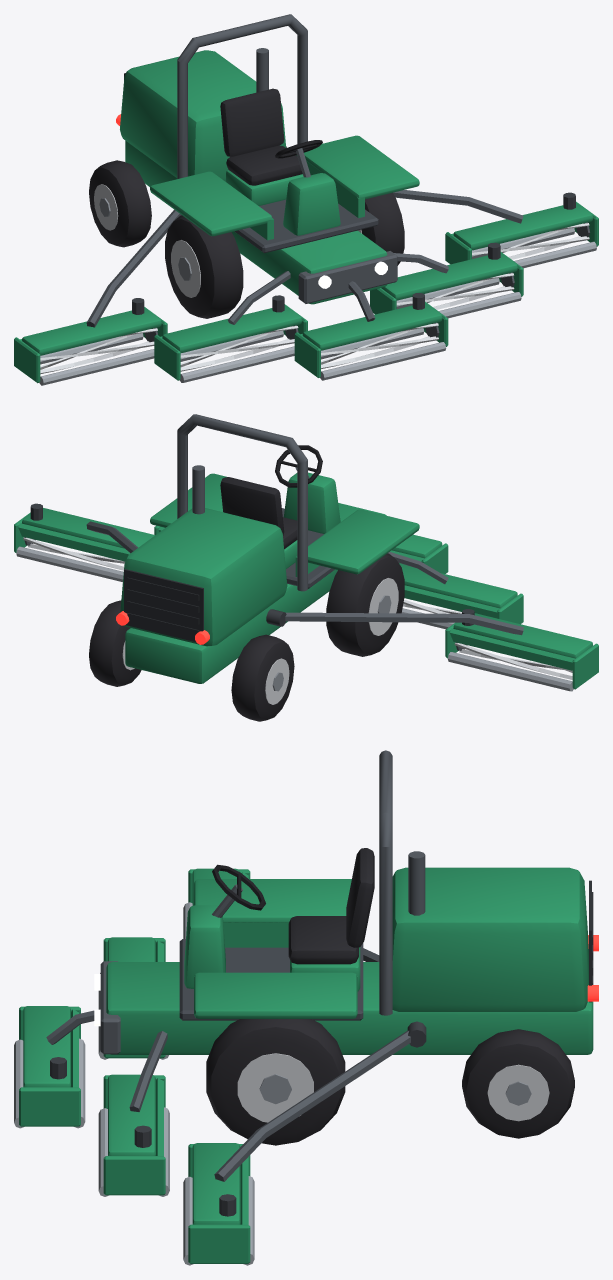
Rendered from mower_gangreel.glb.
3 views of the same model, one above another, from view 1: azimuth 30°, elevation 25°; view 2: azimuth 150°, elevation 25°; view 3: azimuth 270°, elevation 25° (orthographic). The views are drawn at different scales.
Parts seen in each view (by area): view 1: Chassis, Deck, Wheel_FR, Wheel_RR, Wheel_FL, Reel_1, Reel_2, Reel_4, Reel_3, Reel_5; view 2: Chassis, Deck, Wheel_FR, Wheel_RR, Wheel_RL, Reel_4, Reel_5; view 3: Chassis, Deck, Wheel_FL, Wheel_RL.
Part boxes in pixels (bbox=[...]): Chassis: bbox=[86, 14, 523, 327]; Deck: bbox=[14, 192, 598, 385]; Wheel_FR: bbox=[165, 215, 243, 318]; Wheel_RR: bbox=[89, 160, 151, 247]; Wheel_FL: bbox=[358, 192, 404, 265]; Reel_1: bbox=[321, 322, 439, 368]; Reel_2: bbox=[180, 325, 298, 371]; Reel_4: bbox=[40, 327, 157, 374]; Reel_3: bbox=[396, 272, 514, 309]; Reel_5: bbox=[472, 222, 590, 259]; Chassis: bbox=[86, 414, 523, 683]; Deck: bbox=[14, 503, 598, 691]; Wheel_FR: bbox=[326, 553, 404, 656]; Wheel_RR: bbox=[231, 634, 294, 721]; Wheel_RL: bbox=[89, 600, 141, 686]; Reel_4: bbox=[454, 642, 572, 679]; Reel_5: bbox=[23, 537, 124, 570]; Chassis: bbox=[46, 750, 598, 1181]; Deck: bbox=[14, 868, 254, 1265]; Wheel_FL: bbox=[206, 1019, 345, 1145]; Wheel_RL: bbox=[462, 1029, 574, 1138].
Bounding box in the file's own units: 6 × 2.41 × 4.14.
